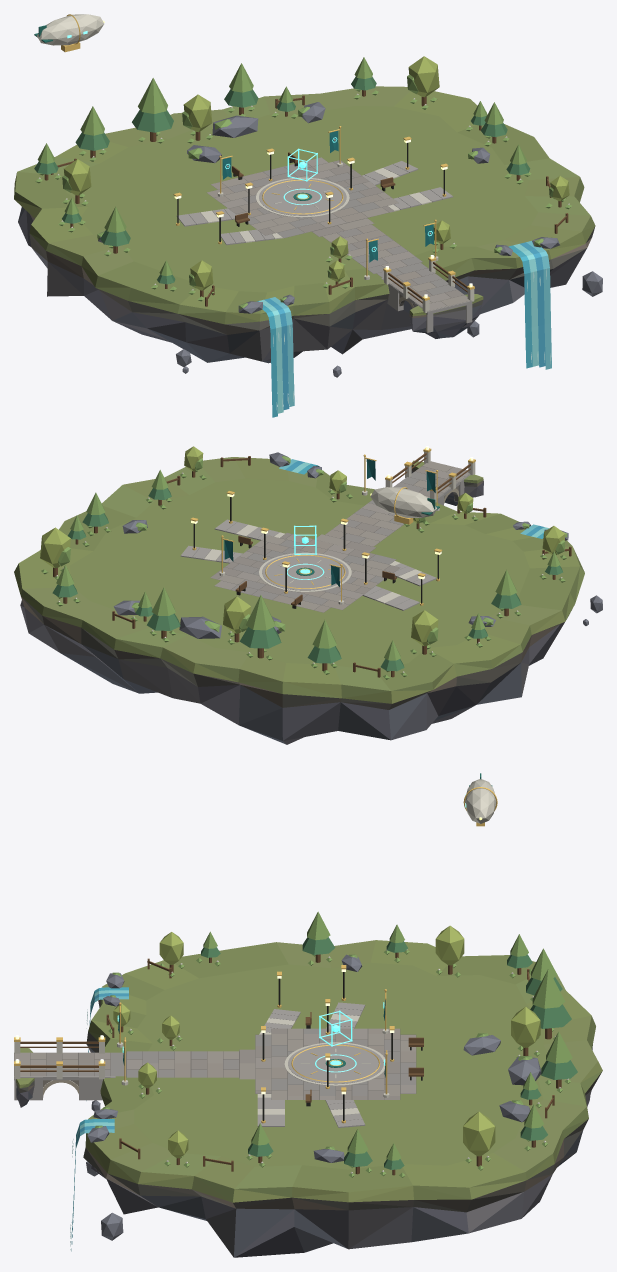
The model's file is environment.glb.
3 views of the same model, one above another, from view 1: azimuth 30°, elevation 25°; view 2: azimuth 150°, elevation 25°; view 3: azimuth 270°, elevation 25° (orthographic). The views are drawn at different scales.
Visible parts, largest first — view 1: environment_geo_env_landscape, environment_geo_env_streams, environment_geo_env_green_light, environment_geo_env_leaves, environment_geo_env_green, environment_geo_env_crag, environment_geo_env_pave, civicplaza_geo_env_pave, environment_geo_env_trunk, airship_geo_env_steel, environment_geo_env_steel, environment_geo_env_gold (+2 smaller); view 2: environment_geo_env_landscape, environment_geo_env_green_light, environment_geo_env_green, environment_geo_env_leaves, civicplaza_geo_env_pave, environment_geo_env_pave, environment_geo_env_crag, environment_geo_env_trunk, airship_geo_env_steel, environment_geo_env_steel, environment_geo_env_gold, environment_geo_env_banner (+4 smaller); view 3: environment_geo_env_landscape, environment_geo_env_green_light, environment_geo_env_leaves, environment_geo_env_green, environment_geo_env_crag, environment_geo_env_pave, civicplaza_geo_env_pave, environment_geo_env_trunk, environment_geo_env_steel, environment_geo_env_streams, airship_geo_env_steel, environment_geo_env_gold (+1 smaller).
Boxes of the visible parts, x1=… form: environment_geo_env_landscape: x1=14, y1=86, x2=595, y2=363; environment_geo_env_streams: x1=257, y1=241, x2=551, y2=417; environment_geo_env_green_light: x1=35, y1=57, x2=571, y2=309; environment_geo_env_leaves: x1=64, y1=56, x2=569, y2=290; environment_geo_env_green: x1=34, y1=76, x2=530, y2=284; environment_geo_env_crag: x1=98, y1=102, x2=602, y2=377; environment_geo_env_pave: x1=176, y1=161, x2=472, y2=332; civicplaza_geo_env_pave: x1=259, y1=178, x2=346, y2=215; environment_geo_env_trunk: x1=44, y1=90, x2=568, y2=306; airship_geo_env_steel: x1=37, y1=14, x2=104, y2=45; environment_geo_env_steel: x1=39, y1=93, x2=569, y2=312; environment_geo_env_gold: x1=173, y1=126, x2=474, y2=300; environment_geo_env_landscape: x1=14, y1=457, x2=584, y2=744; environment_geo_env_green_light: x1=41, y1=456, x2=567, y2=679; environment_geo_env_green: x1=52, y1=488, x2=562, y2=671; environment_geo_env_leaves: x1=40, y1=446, x2=565, y2=646; civicplaza_geo_env_pave: x1=262, y1=554, x2=348, y2=590; environment_geo_env_pave: x1=180, y1=474, x2=470, y2=610; environment_geo_env_crag: x1=113, y1=452, x2=602, y2=638; environment_geo_env_trunk: x1=53, y1=453, x2=571, y2=677; airship_geo_env_steel: x1=370, y1=487, x2=437, y2=517; environment_geo_env_steel: x1=56, y1=451, x2=562, y2=672; environment_geo_env_gold: x1=190, y1=448, x2=475, y2=605; environment_geo_env_banner: x1=224, y1=459, x2=435, y2=587; environment_geo_env_landscape: x1=14, y1=940, x2=602, y2=1257; environment_geo_env_green_light: x1=94, y1=911, x2=572, y2=1177; environment_geo_env_leaves: x1=113, y1=925, x2=540, y2=1158; environment_geo_env_green: x1=201, y1=937, x2=577, y2=1169; environment_geo_env_crag: x1=86, y1=954, x2=541, y2=1240; environment_geo_env_pave: x1=14, y1=1002, x2=365, y2=1127; civicplaza_geo_env_pave: x1=288, y1=1043, x2=383, y2=1084; environment_geo_env_trunk: x1=20, y1=952, x2=561, y2=1175; environment_geo_env_steel: x1=14, y1=949, x2=568, y2=1173; environment_geo_env_streams: x1=70, y1=987, x2=128, y2=1251; airship_geo_env_steel: x1=465, y1=779, x2=496, y2=823; environment_geo_env_gold: x1=14, y1=965, x2=394, y2=1123.
Bounding box in the file's own units: 37.51 × 21.51 × 36.6.
